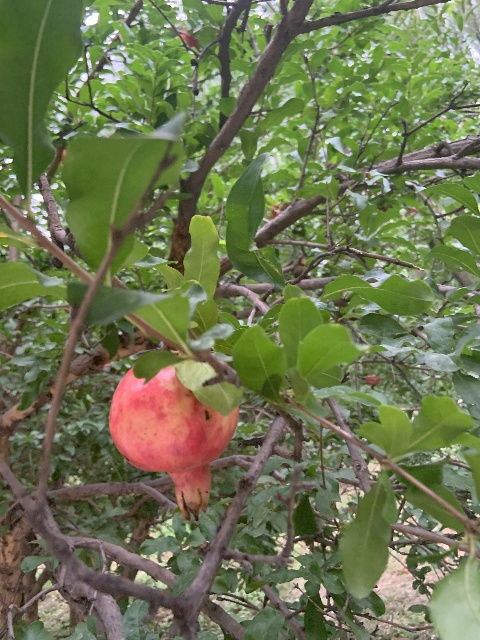ripe: (108, 364, 239, 521)
